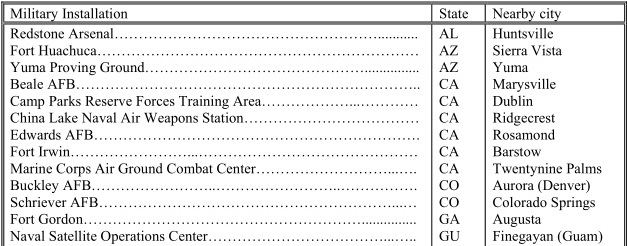column: (10, 2, 261, 246), (492, 2, 603, 246), (439, 2, 468, 246)
row: (1, 7, 627, 21), (1, 112, 627, 126), (2, 28, 627, 41), (1, 213, 626, 226), (1, 79, 627, 91), (1, 129, 627, 141), (1, 146, 627, 158), (1, 196, 627, 208), (1, 231, 627, 243), (2, 180, 627, 192), (1, 163, 623, 175), (1, 45, 627, 56), (1, 96, 627, 107), (1, 62, 627, 72)
